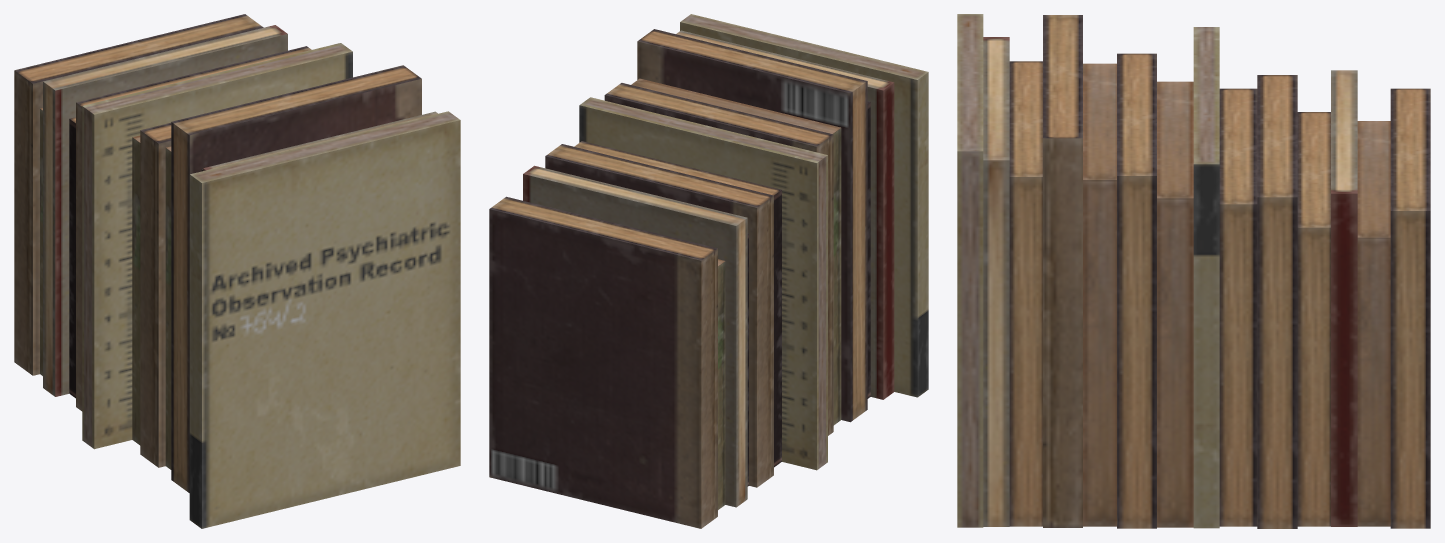
File: HH_Stacked_Books_03.fbx
The picture shows the model from 3 angles, left to right: view 1: azimuth 30°, elevation 25°; view 2: azimuth 150°, elevation 25°; view 3: azimuth 270°, elevation 25°; orthographic projection. The views are drawn at different scales.
Parts seen in each view (by area): view 1: HH_Stacked_Books_03; view 2: HH_Stacked_Books_03; view 3: HH_Stacked_Books_03.
Part boxes in pixels (bbox=[...]): HH_Stacked_Books_03: bbox=[14, 14, 460, 528]; HH_Stacked_Books_03: bbox=[489, 14, 928, 528]; HH_Stacked_Books_03: bbox=[957, 14, 1430, 528].
Size of the model in its own units: 21.06 by 27.58 by 30.37.
